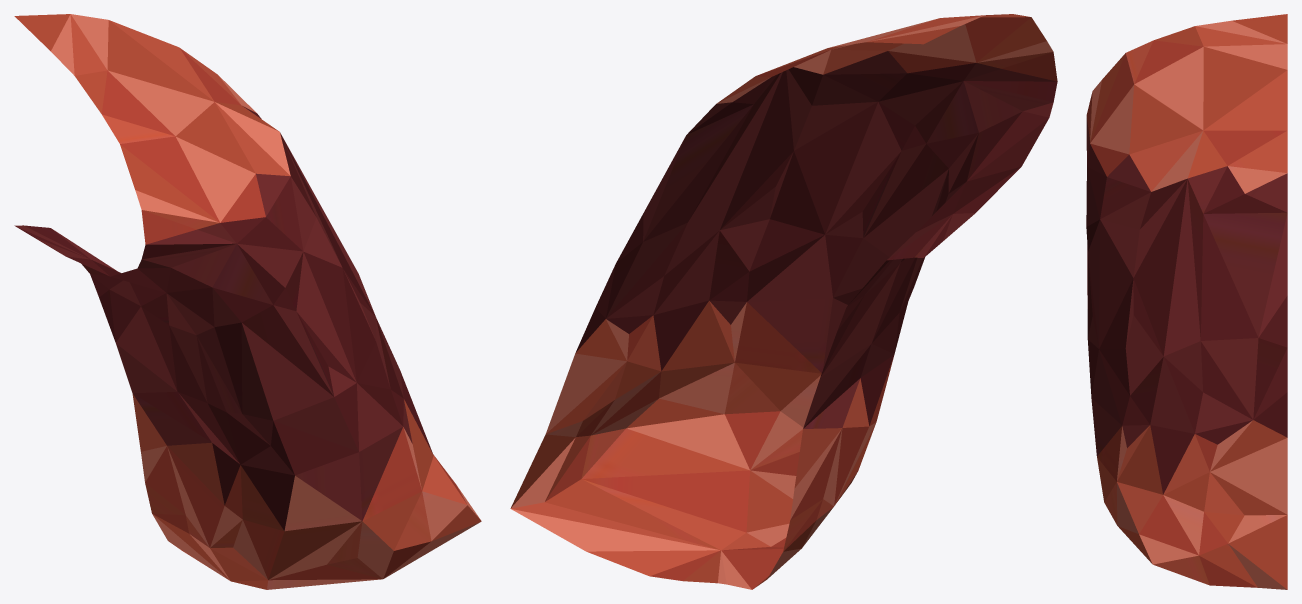
3 views of the same model, side by side, from view 1: azimuth 30°, elevation 25°; view 2: azimuth 150°, elevation 25°; view 3: azimuth 270°, elevation 25° (orthographic). The views are drawn at different scales.
Visible parts, largest first — view 1: polySurface18; view 2: polySurface18; view 3: polySurface18.
Boxes of the visible parts, bbox=[...] form: polySurface18: bbox=[14, 14, 481, 589]; polySurface18: bbox=[510, 14, 1057, 589]; polySurface18: bbox=[1086, 14, 1287, 589].
Bounding box in the file's own units: 616 × 853 × 346.
